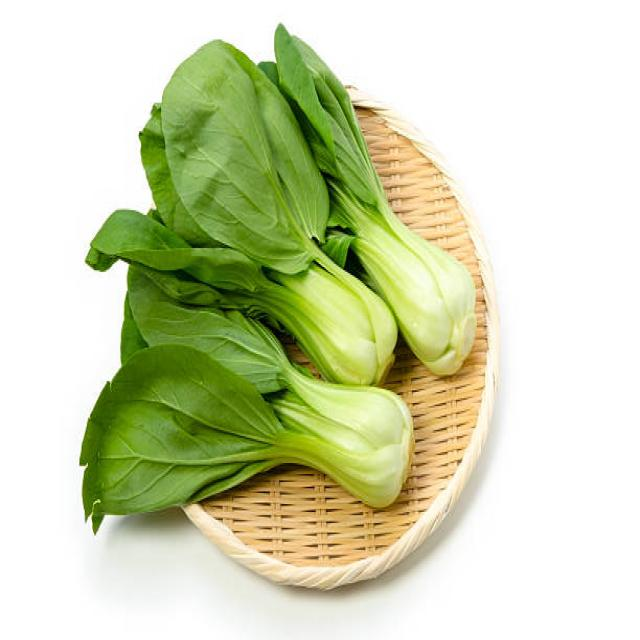bok choy: (74, 374, 384, 555), (171, 101, 356, 360), (375, 81, 517, 341)
